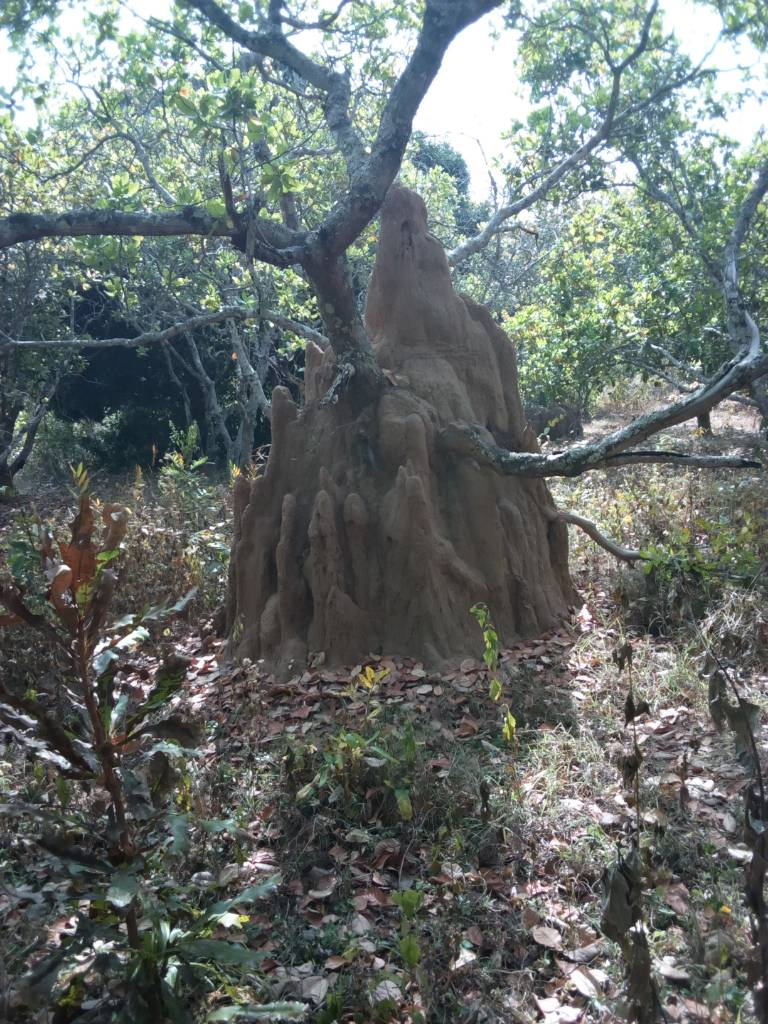Termites: (255, 388, 436, 650), (379, 202, 482, 400), (441, 482, 568, 617)
